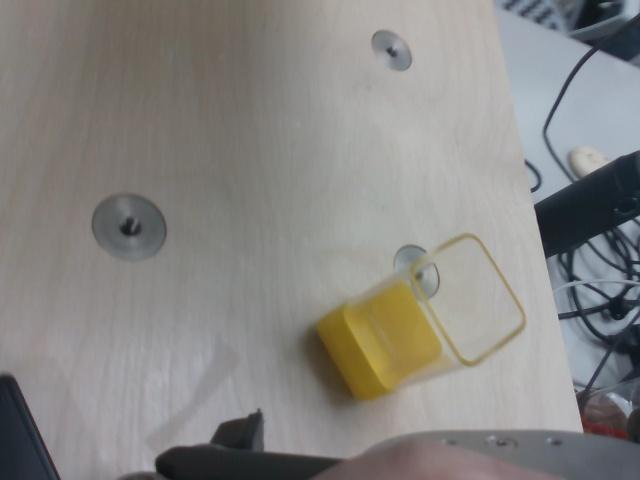yellow_cup: (319, 281, 439, 404)
